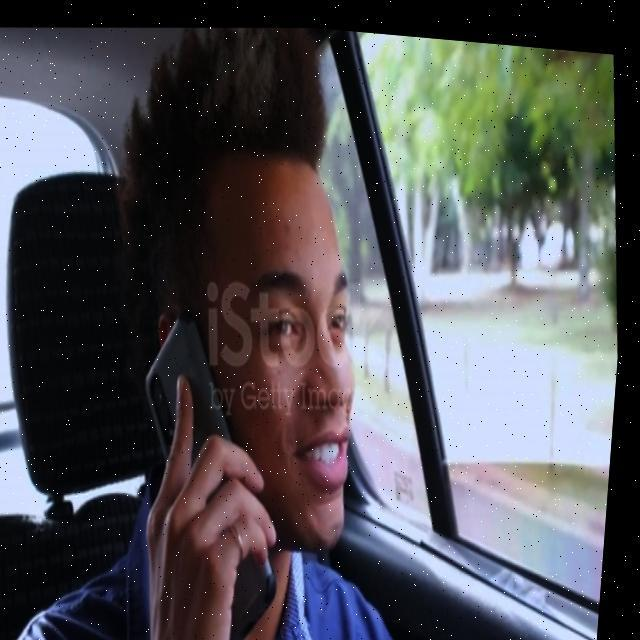PhoneCall: (128, 302, 306, 640)
